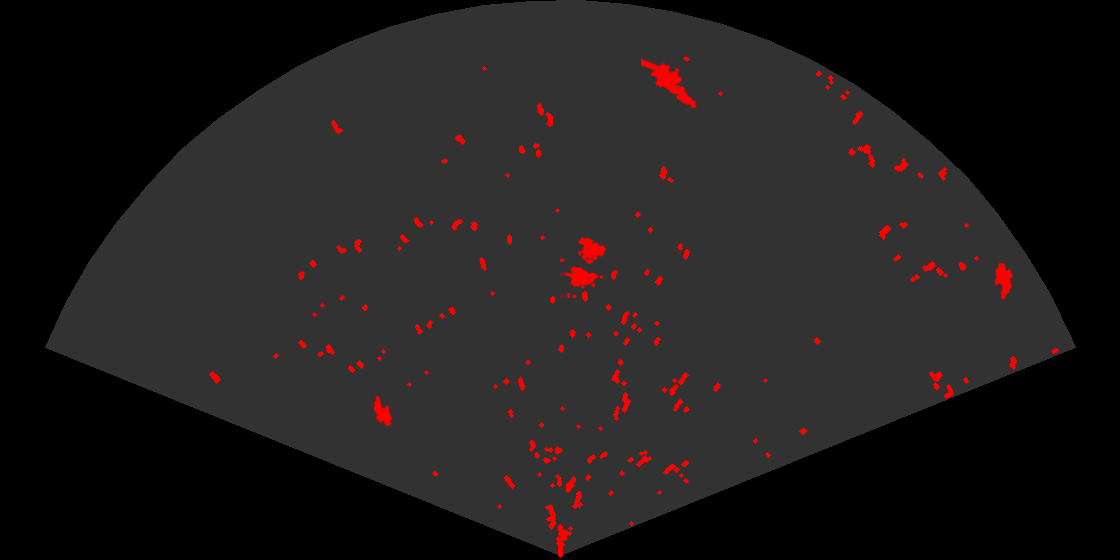AUV: (993, 261, 1015, 302), (372, 394, 394, 428)
cage: (560, 235, 608, 298)
frogman: (641, 57, 699, 110)
